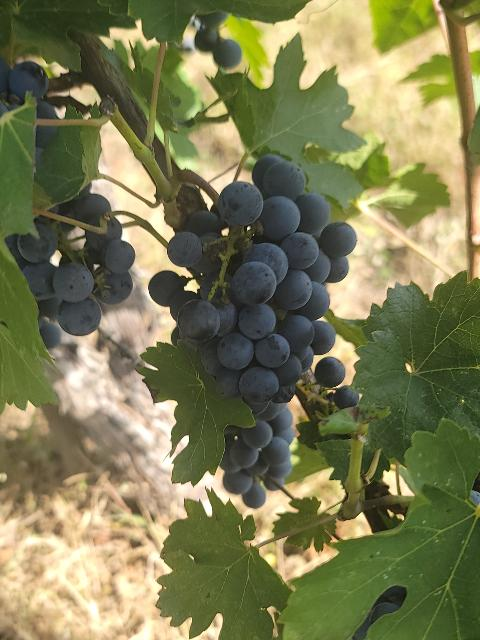grapes: (149, 154, 356, 509)
